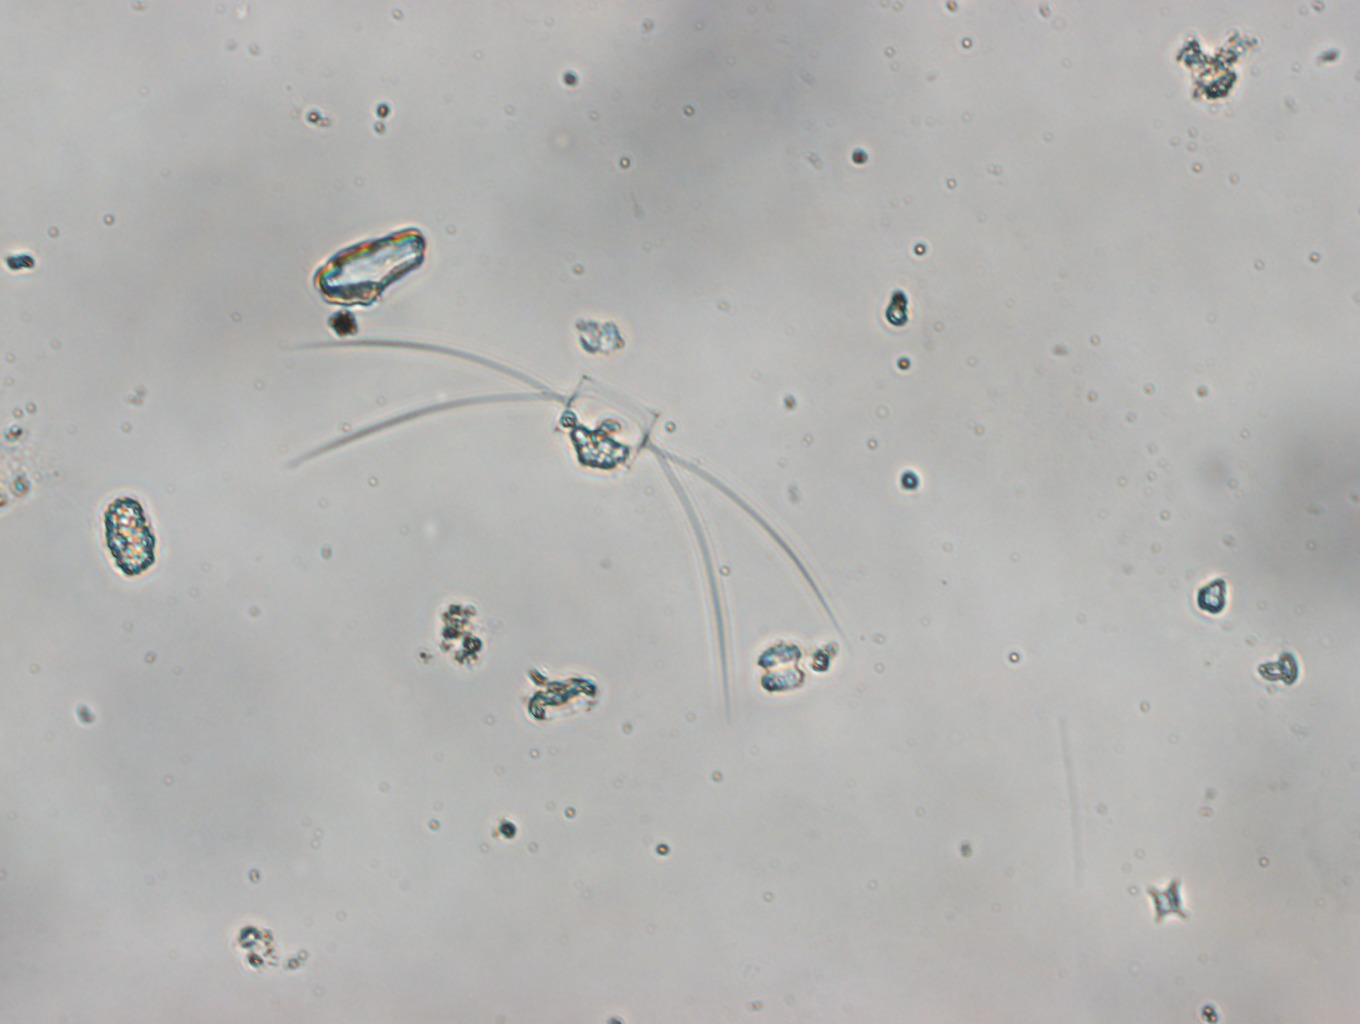chaetoceros: (275, 327, 844, 724)
